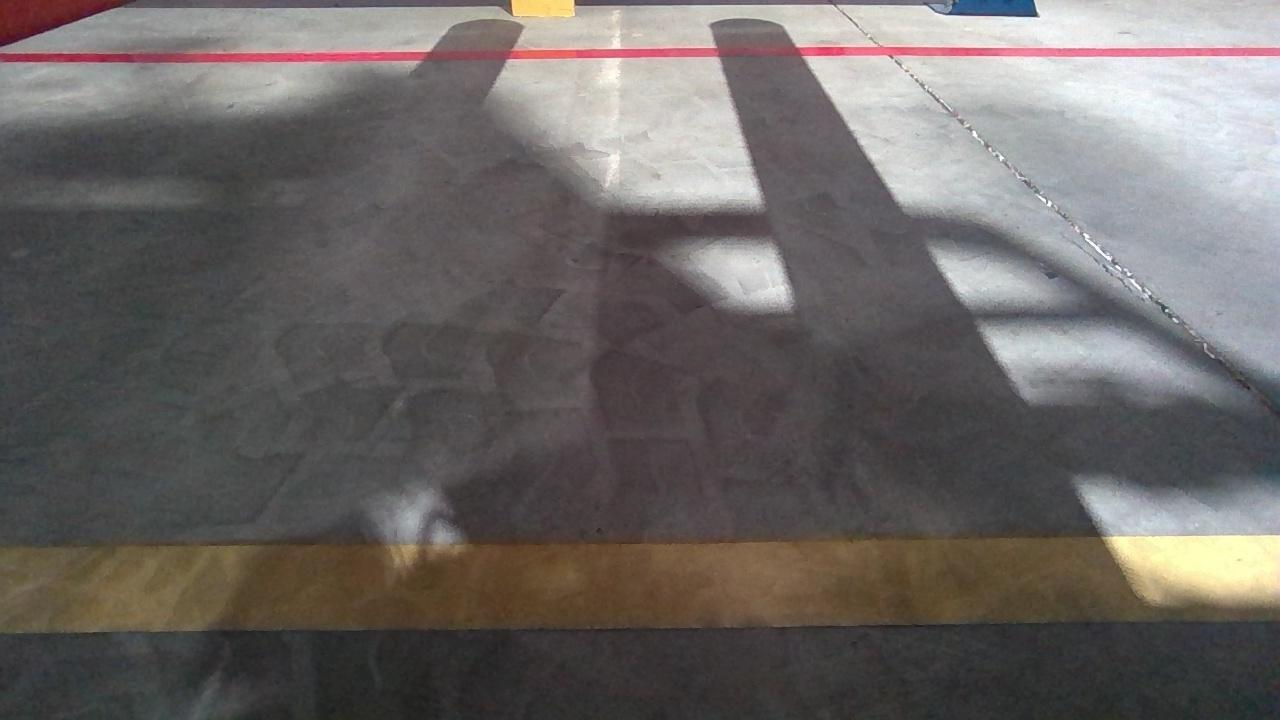orange_strip: (511, 0, 575, 15)
red_line: (3, 43, 1269, 65)
yellow_line: (3, 548, 1277, 628)
